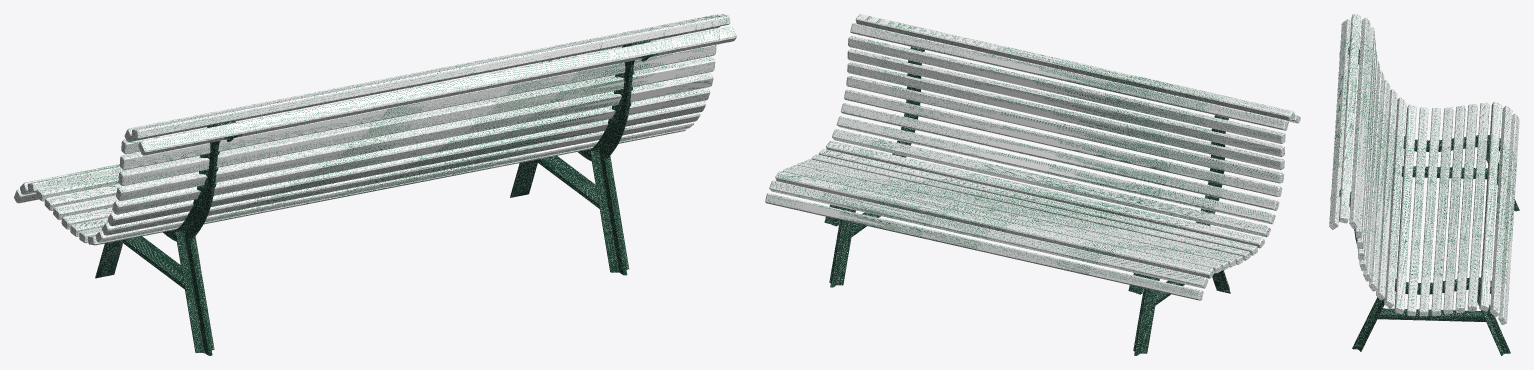
3 views of the same model, side by side, from view 1: azimuth 30°, elevation 25°; view 2: azimuth 150°, elevation 25°; view 3: azimuth 270°, elevation 25° (orthographic). The views are drawn at different scales.
Parts seen in each view (by area): view 1: mesh13_mesh13-geometry, mesh18_mesh18-geometry, mesh14_mesh14-geometry, mesh15_mesh15-geometry, mesh11_mesh11-geometry, mesh17_mesh17-geometry, mesh22_mesh22-geometry, mesh23_mesh23-geometry, mesh24_mesh24-geometry, mesh5_mesh5-geometry, mesh8_mesh8-geometry, mesh12_mesh12-geometry (+12 smaller); view 2: mesh16_mesh16-geometry, mesh24_mesh24-geometry, mesh17_mesh17-geometry, mesh18_mesh18-geometry, mesh31_mesh31-geometry, mesh14_mesh14-geometry, mesh23_mesh23-geometry, mesh30_mesh30-geometry, mesh15_mesh15-geometry, mesh22_mesh22-geometry, mesh12_mesh12-geometry, mesh11_mesh11-geometry (+12 smaller); view 3: mesh30_mesh30-geometry, mesh19_mesh19-geometry, mesh28_mesh28-geometry, mesh31_mesh31-geometry, mesh25_mesh25-geometry, mesh27_mesh27-geometry, mesh11_mesh11-geometry, mesh26_mesh26-geometry, mesh21_mesh21-geometry, mesh24_mesh24-geometry, mesh13_mesh13-geometry, mesh20_mesh20-geometry (+15 smaller).
Boxes of the visible parts, x1,y1,x2,y2 form: mesh13_mesh13-geometry: (138,26,736,155); mesh18_mesh18-geometry: (118,57,715,185); mesh14_mesh14-geometry: (116,72,713,201); mesh15_mesh15-geometry: (112,87,710,214); mesh11_mesh11-geometry: (132,14,730,138); mesh17_mesh17-geometry: (119,44,716,169); mesh22_mesh22-geometry: (107,101,705,226); mesh23_mesh23-geometry: (102,112,700,235); mesh24_mesh24-geometry: (95,121,693,242); mesh5_mesh5-geometry: (590,151,629,275); mesh8_mesh8-geometry: (175,231,214,355); mesh12_mesh12-geometry: (124,14,719,141); mesh16_mesh16-geometry: (848,36,1285,143); mesh24_mesh24-geometry: (832,129,1270,237); mesh17_mesh17-geometry: (847,49,1284,156); mesh18_mesh18-geometry: (847,62,1284,170); mesh31_mesh31-geometry: (769,180,1208,288); mesh14_mesh14-geometry: (846,76,1284,183); mesh23_mesh23-geometry: (836,116,1275,224); mesh30_mesh30-geometry: (775,171,1214,278); mesh15_mesh15-geometry: (844,89,1282,196); mesh22_mesh22-geometry: (840,103,1279,210); mesh12_mesh12-geometry: (850,23,1288,130); mesh11_mesh11-geometry: (855,14,1294,120); mesh30_mesh30-geometry: (1479,101,1501,311); mesh19_mesh19-geometry: (1394,104,1416,314); mesh28_mesh28-geometry: (1443,105,1465,314); mesh31_mesh31-geometry: (1490,105,1512,316); mesh25_mesh25-geometry: (1455,104,1477,312); mesh27_mesh27-geometry: (1431,107,1453,316); mesh11_mesh11-geometry: (1339,14,1361,223); mesh26_mesh26-geometry: (1467,102,1489,311); mesh21_mesh21-geometry: (1419,108,1440,316); mesh24_mesh24-geometry: (1384,97,1406,308); mesh13_mesh13-geometry: (1329,19,1351,229); mesh20_mesh20-geometry: (1407,107,1428,316).
Bounding box in the file's own units: 0.8554 × 0.3723 × 0.3601.
